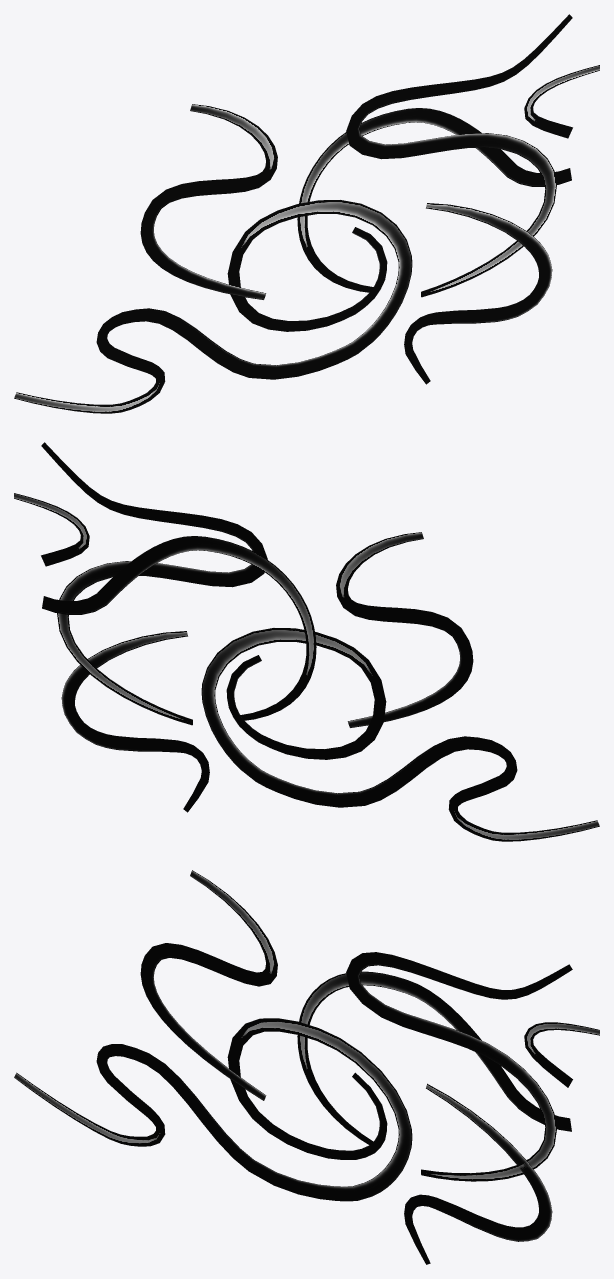
File: UI_effect_ray_01.FBX
3 renders of one model, top to bottom at view 1: azimuth 30°, elevation 25°; view 2: azimuth 150°, elevation 25°; view 3: azimuth 330°, elevation 25°, orthographic.
Parts seen in each view (by area): view 1: effect_ray_1; view 2: effect_ray_1; view 3: effect_ray_1.
Part boxes in pixels (x1,y1,x2,y2): effect_ray_1: (14,14,599,413); effect_ray_1: (14,442,599,841); effect_ray_1: (14,870,599,1264).
Size of the model in its own units: 2.12 by 1.17 by 4.12e-05.
